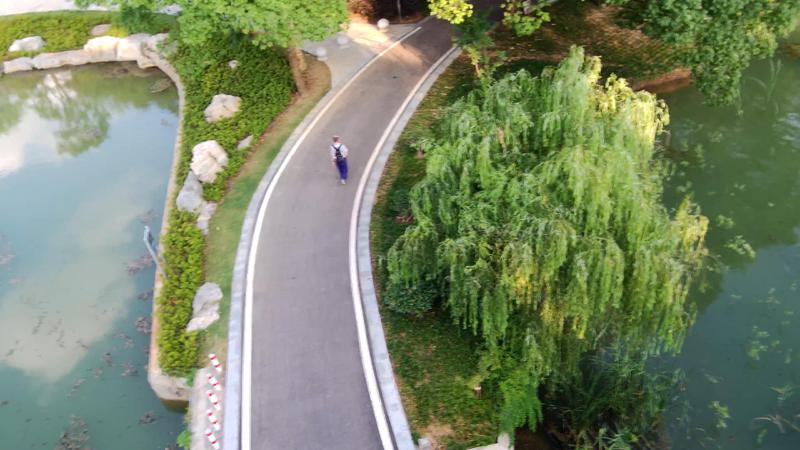passerby: (325, 134, 351, 185)
